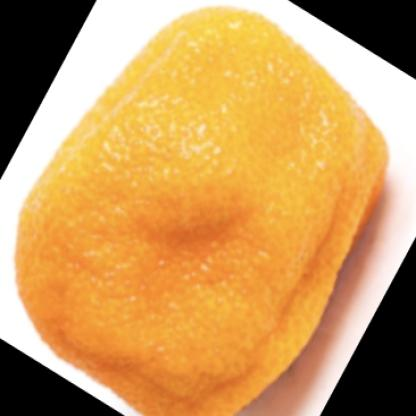rotten: (15, 10, 387, 416)
